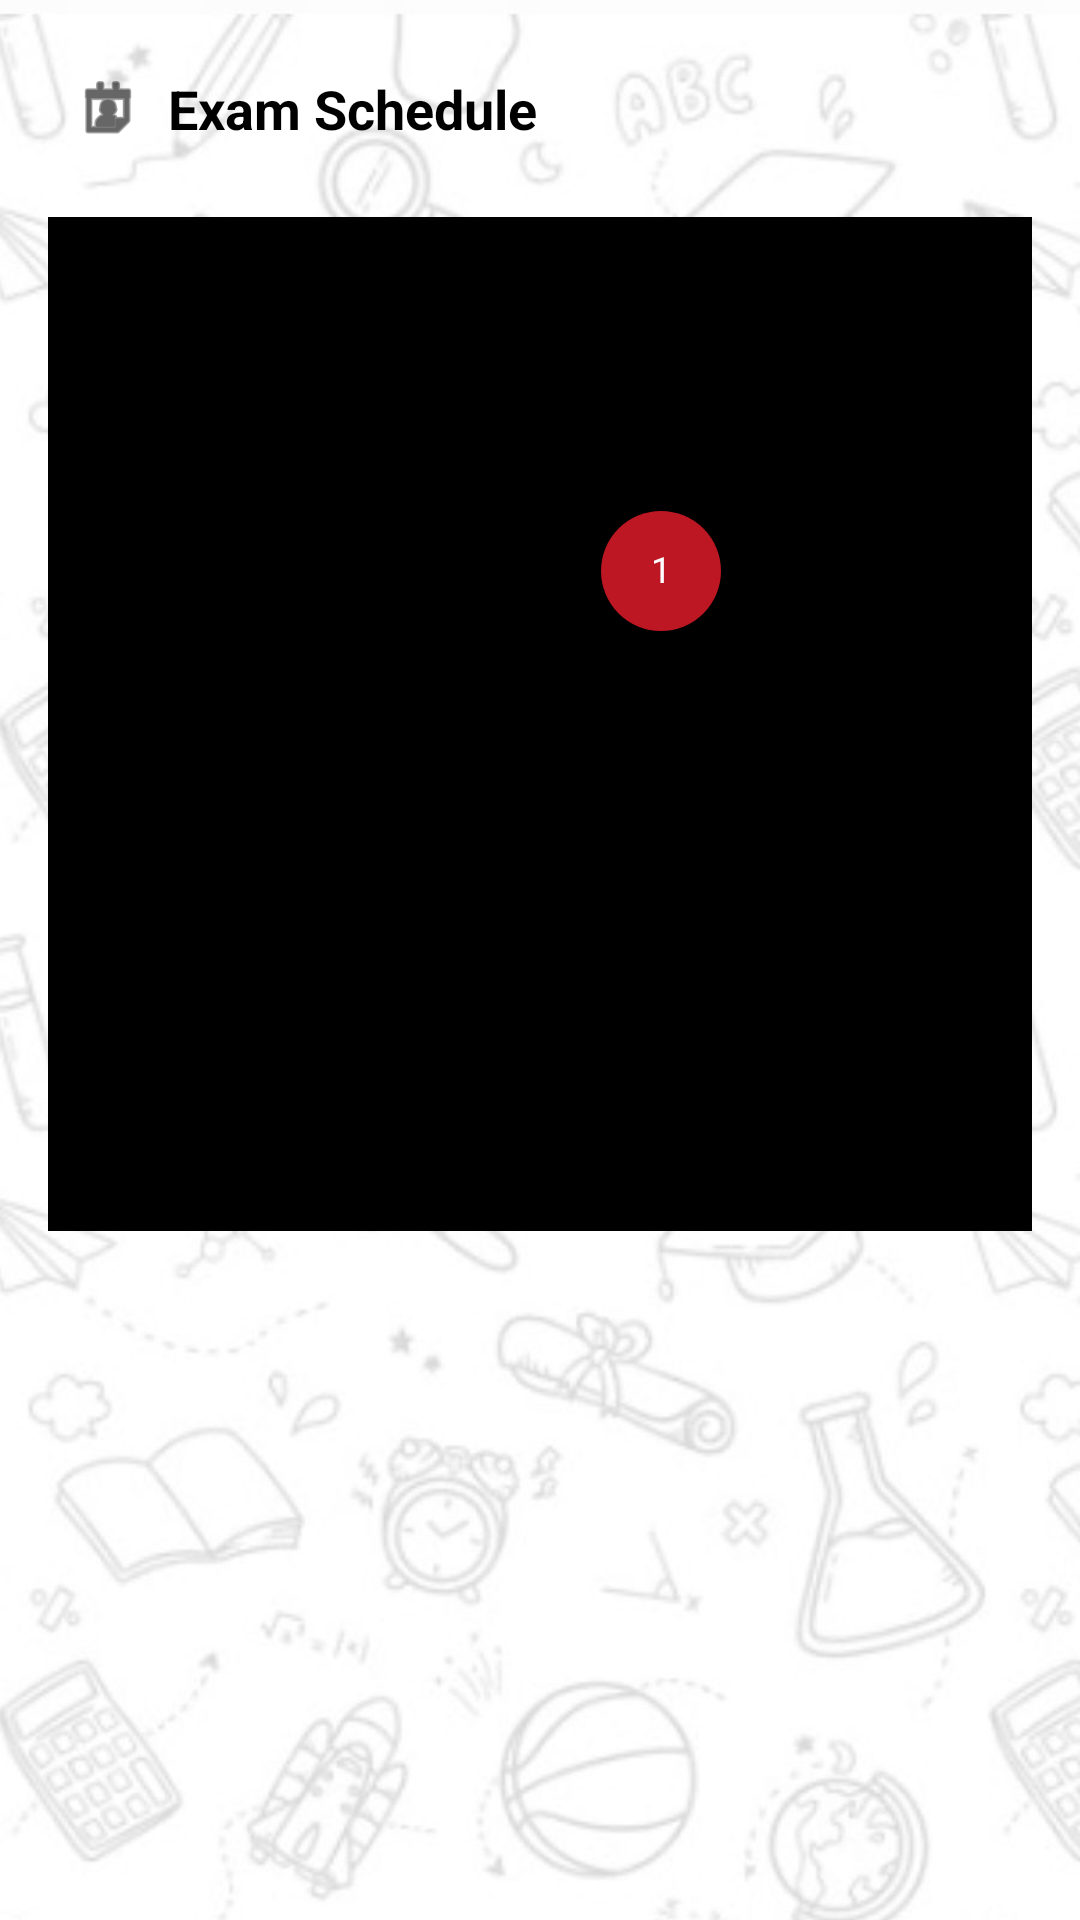

Screen size 1080 × 1920. Icon name, then its center in pixels as [x,y]:
calendar: [108,103]
